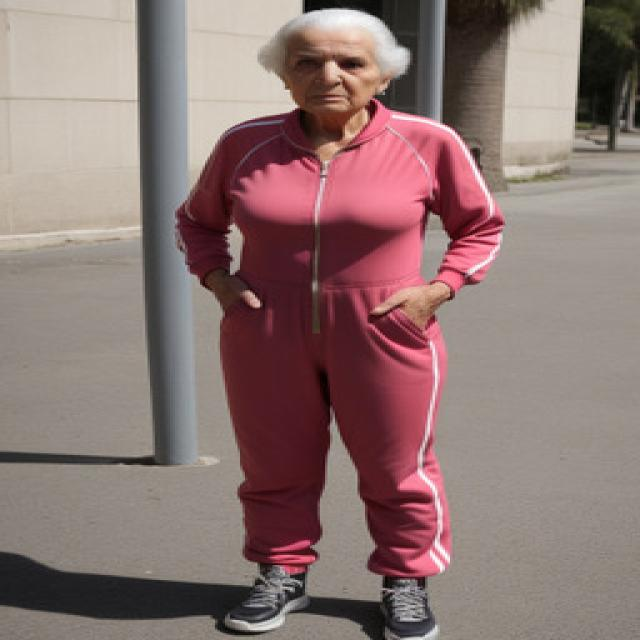Ai human 2: (148, 0, 525, 640)
